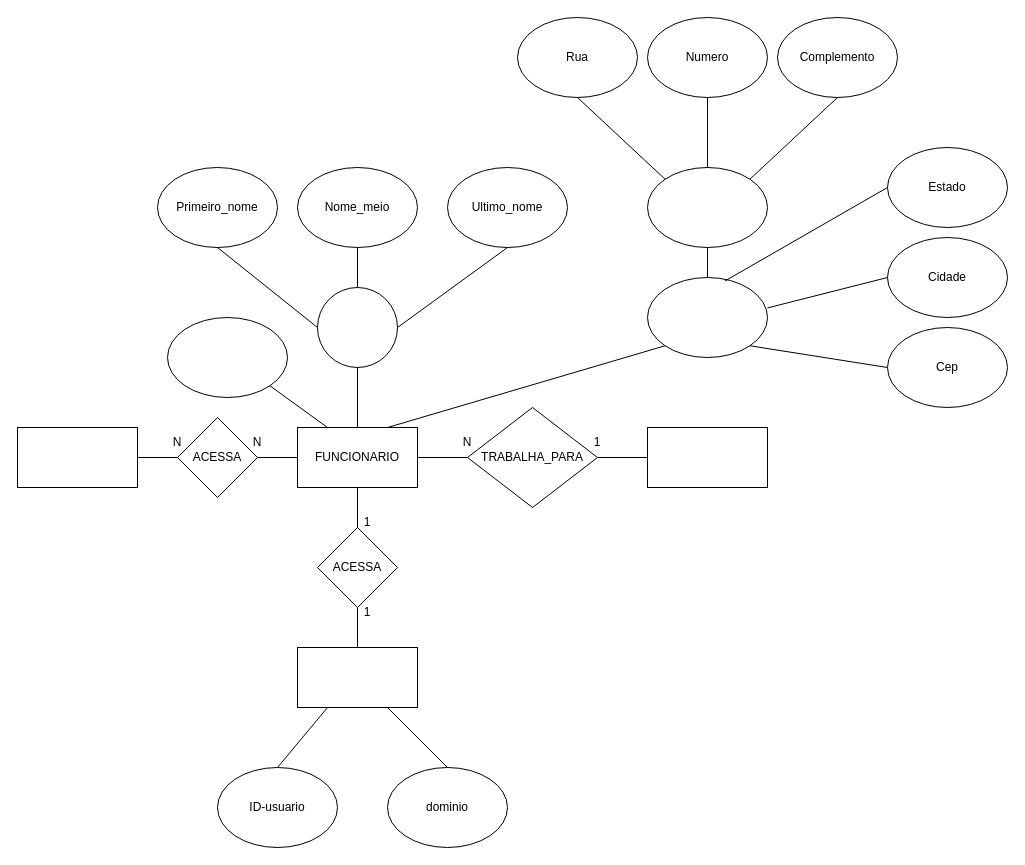
The diagram is 1025 pixels wide and 865 high, and some of its shapes have lost their labels. Here are the shapes that lost their labels. From the top down, the centre of each, then its label:
At point (707, 207): "Logradouro".
At point (357, 327): "Nome".
At point (707, 317): "Endereco".
At point (227, 357): "Cpf".
At point (77, 457): "PROJETOS".
At point (707, 457): "DEPARTAMENTO".
At point (357, 677): "USUARIO".
